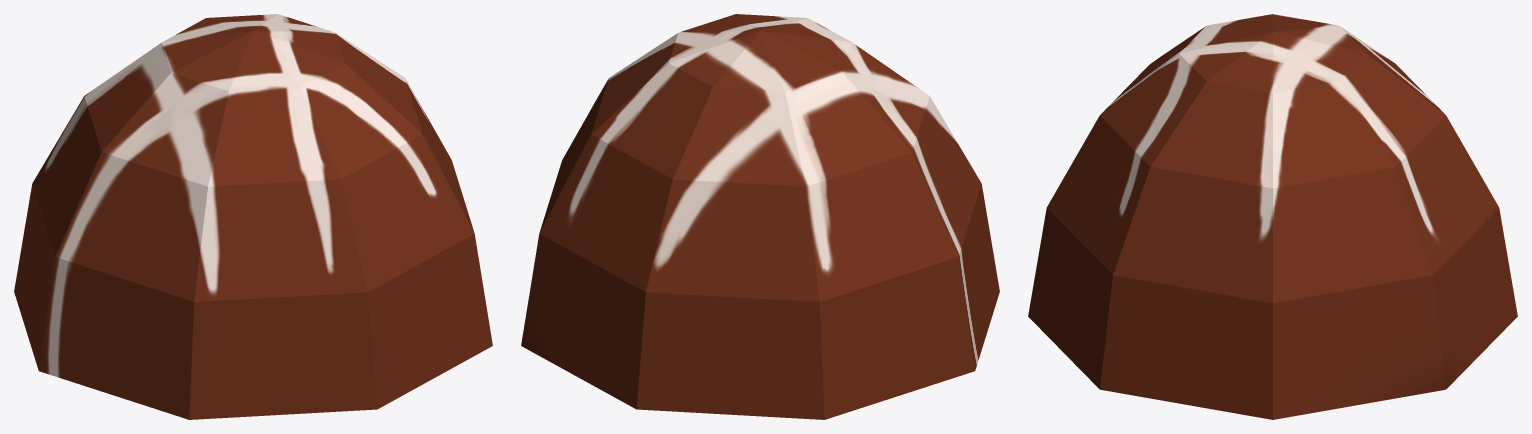
Rendered from bombom.fbx.
3 renders of one model, left to right at view 1: azimuth 30°, elevation 25°; view 2: azimuth 150°, elevation 25°; view 3: azimuth 270°, elevation 25°, orthographic.
Visible parts, largest first — view 1: Sphere; view 2: Sphere; view 3: Sphere.
Boxes of the visible parts, x1,y1,x2,y2 form: Sphere: (14,14,492,419); Sphere: (521,14,999,419); Sphere: (1028,14,1517,419).
Bounding box in the file's own units: 0.4726 × 0.3029 × 0.4726.
